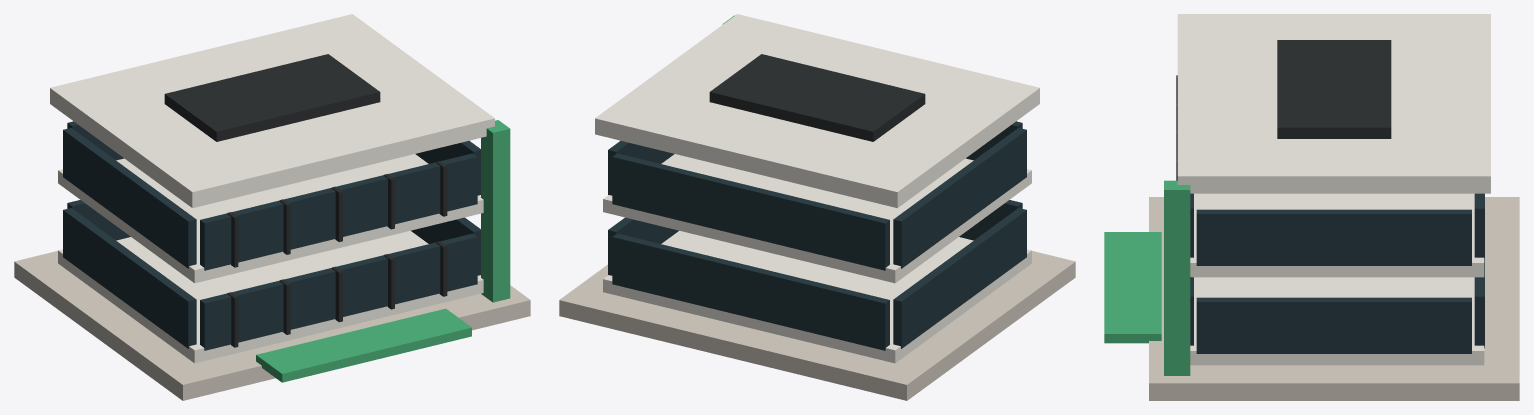
File: predio-social.glb
3 views of the same model, side by side, from view 1: azimuth 30°, elevation 25°; view 2: azimuth 150°, elevation 25°; view 3: azimuth 270°, elevation 25° (orthographic). The views are drawn at different scales.
Parts seen in each view (by area): view 1: Predio social; view 2: Predio social; view 3: Predio social.
Boxes of the visible parts, x1,y1,x2,y2 form: Predio social: (14, 14, 530, 400); Predio social: (559, 14, 1075, 400); Predio social: (1104, 14, 1519, 400).
Size of the model in its own units: 5 by 2.8 by 4.7.
